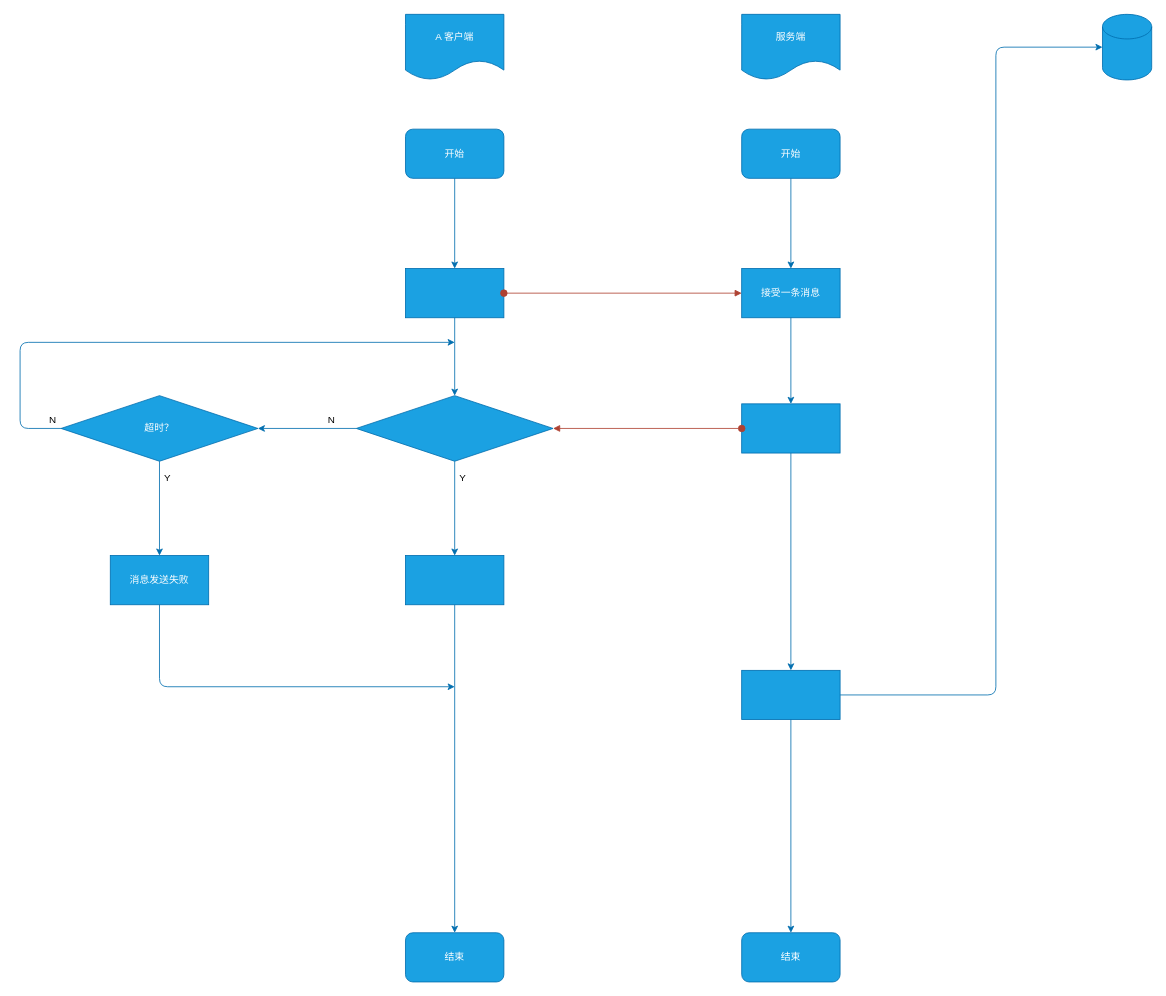
Image size: 1166x996. Some labels were removed from this diagram. The centre of each missing label's shape, as x and y in pixels:
发送一条消息: (x=454, y=293)
回复消息ACK: (x=790, y=428)
存储消息到本地: (x=790, y=695)
消息发送成功: (x=454, y=580)
等待服务端 回复消息ACK？: (x=454, y=428)
